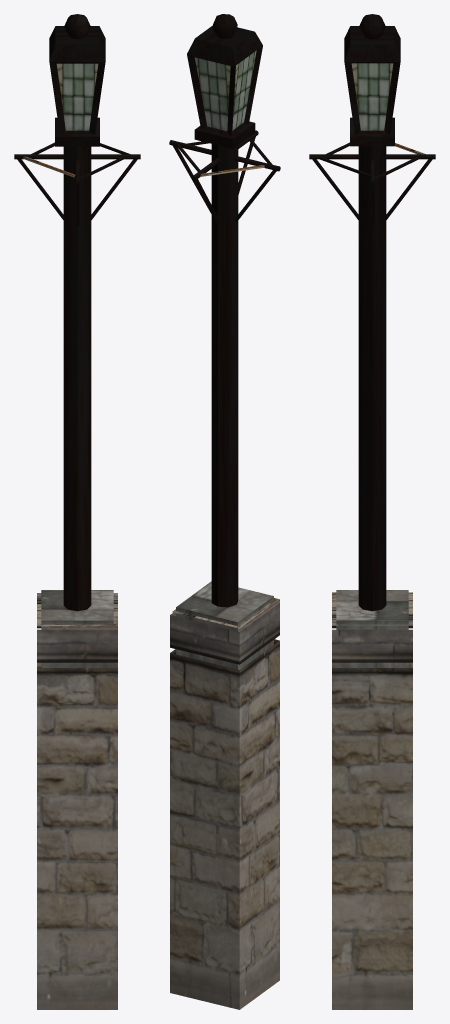
File: light_post.dae
The picture shows the model from 3 angles, left to right: view 1: azimuth 90°, elevation 25°; view 2: azimuth 150°, elevation 25°; view 3: azimuth 270°, elevation 25°; orthographic projection.
Parts seen in each view (by area): view 1: Cylinder; view 2: Cylinder; view 3: Cylinder.
Boxes of the visible parts, box(x1,y1,x2,y2) form: Cylinder: box(14, 14, 140, 1009); Cylinder: box(169, 14, 280, 1009); Cylinder: box(309, 14, 435, 1009).
Size of the model in its own units: 1.98 by 1.98 by 16.87.
